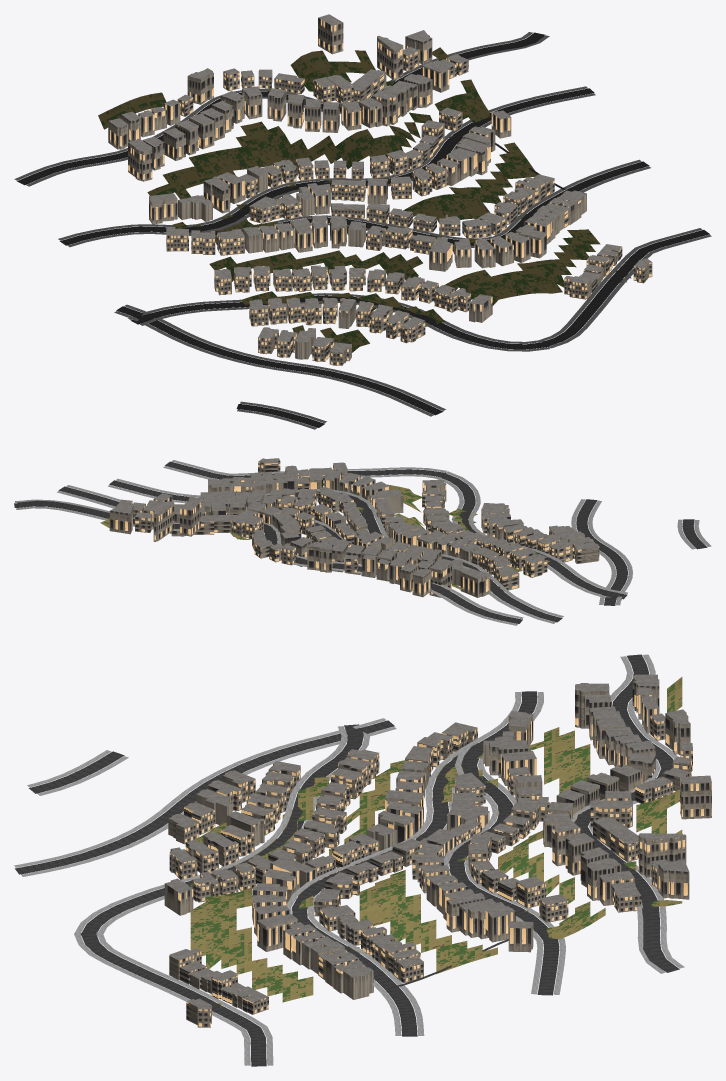
The model's file is tile_20_-12.gltf.
3 renders of one model, top to bottom at view 1: azimuth 30°, elevation 25°; view 2: azimuth 150°, elevation 25°; view 3: azimuth 270°, elevation 25°, orthographic. The views are drawn at different scales.
Parts seen in each view (by area): view 1: Buildings_col, Terrain_col, Roads, Sidewalks; view 2: Buildings_col, Roads, Sidewalks, Terrain_col; view 3: Buildings_col, Terrain_col, Roads, Sidewalks.
Boxes of the visible parts, x1=… form: Buildings_col: x1=108, y1=14, x2=652, y2=365; Terrain_col: x1=98, y1=47, x2=631, y2=352; Roads: x1=17, y1=32, x2=709, y2=427; Sidewalks: x1=14, y1=32, x2=711, y2=429; Buildings_col: x1=109, y1=458, x2=599, y2=597; Roads: x1=14, y1=461, x2=707, y2=623; Sidewalks: x1=15, y1=460, x2=711, y2=625; Terrain_col: x1=100, y1=482, x2=549, y2=589; Buildings_col: x1=164, y1=674, x2=711, y2=1027; Terrain_col: x1=190, y1=677, x2=682, y2=1012; Roads: x1=15, y1=654, x2=679, y2=1066; Sidewalks: x1=14, y1=654, x2=684, y2=1065.
Size of the model in its own units: 409 by 110 by 363.
Materials: 5 (5 with a texture image).
